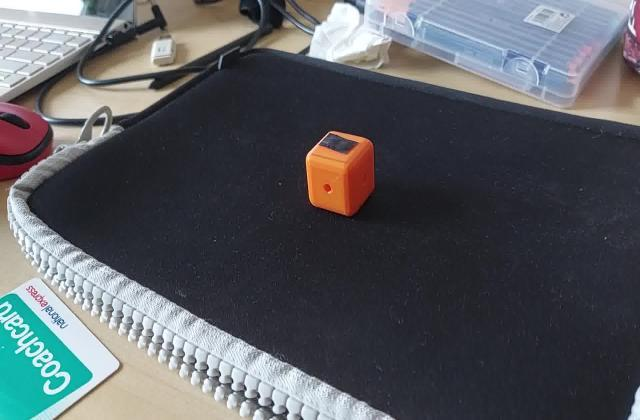black: (318, 132, 360, 156)
cube: (304, 125, 382, 218)
